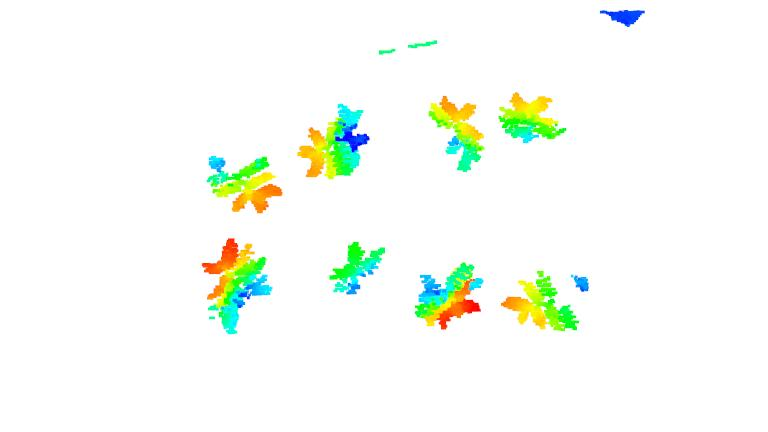chickpea: (197, 236, 273, 334), (203, 145, 286, 217), (298, 101, 370, 183), (411, 258, 485, 332), (424, 90, 488, 175), (501, 270, 581, 333), (496, 89, 570, 148), (326, 235, 386, 298)
